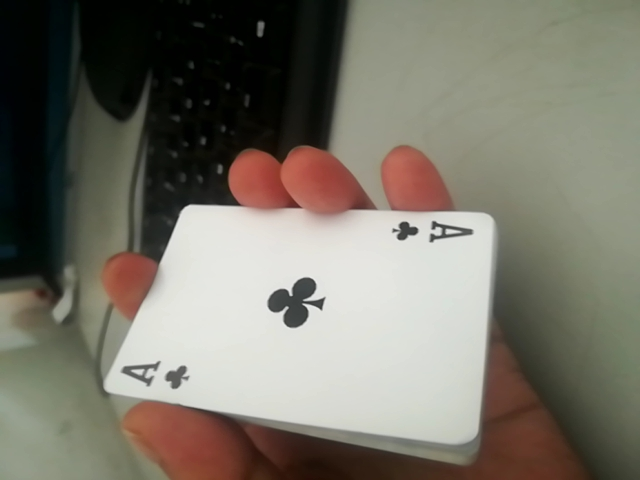mh a: (110, 201, 500, 452)
